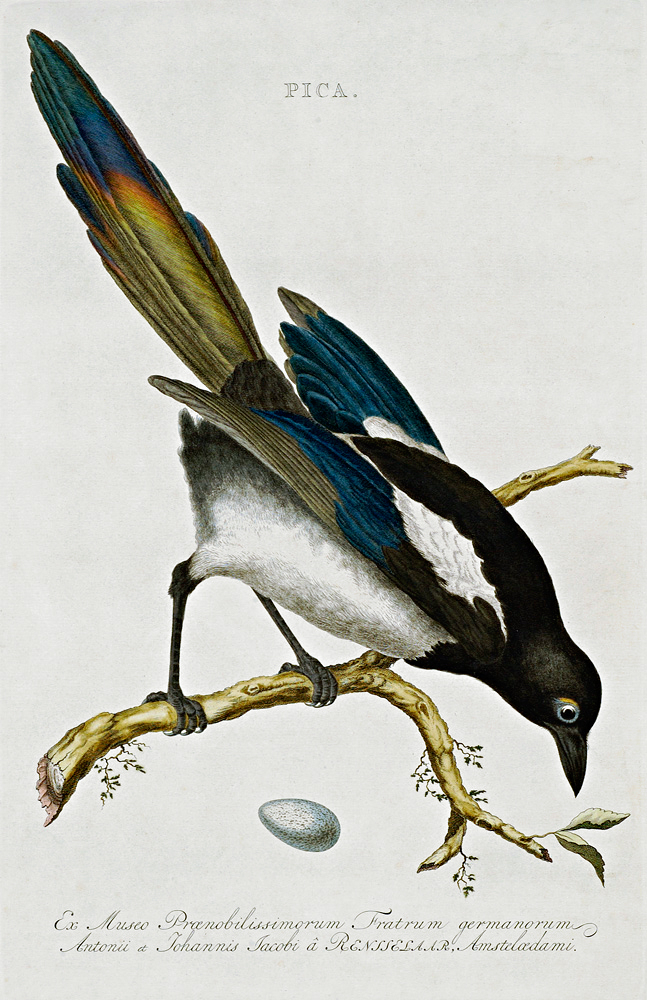magpie: (18, 25, 597, 802)
